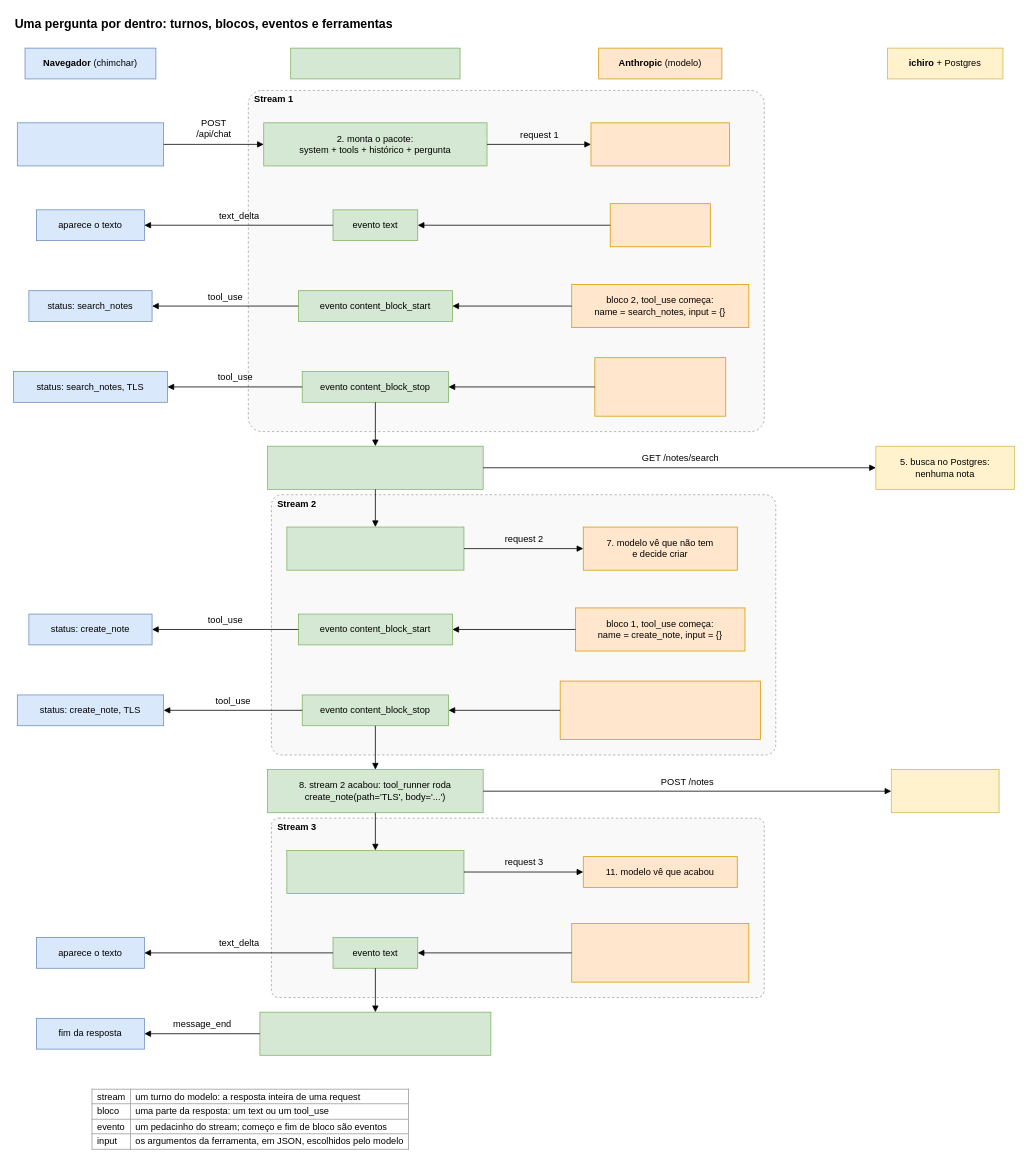
The diagram is 1028 pixels wide and 1169 high, and some of its shapes have lost their labels. The shapes that lost their labels are listed below. From the top down, each one's centre as x and y in pixels, then its label:
At [375,63]: "lonzo (events + tool_runner)".
At [90,144]: "1. 'Já tem nota de TLS? Se não, cria uma'".
At [660,144]: "3. modelo lê o pacote e começa a responder".
At [659,225]: "bloco 1, text: 'Vou procurar'".
At [660,386]: "bloco 2 termina: input = {query: 'TLS'} stop_reason = tool_use".
At [375,467]: "4. stream 1 acabou: tool_runner roda search_notes(query='TLS')".
At [375,548]: "6. pacote anterior + tool_use + tool_result 'no notes found'".
At [659,710]: "bloco 1 termina: input = {path: 'TLS', body: '...'} stop_reason = tool_use".
At [945,791]: "9. grava a nota no Postgres".
At [375,872]: "10. pacote anterior + tool_use + tool_result 'created TLS'".
At [660,952]: "bloco 1, text: 'Não tinha; criei a nota TLS' stop_reason = end_turn".
At [375,1033]: "12. sem ferramenta: o laço acaba; grava pergunta e resposta (banco lonzo)".
